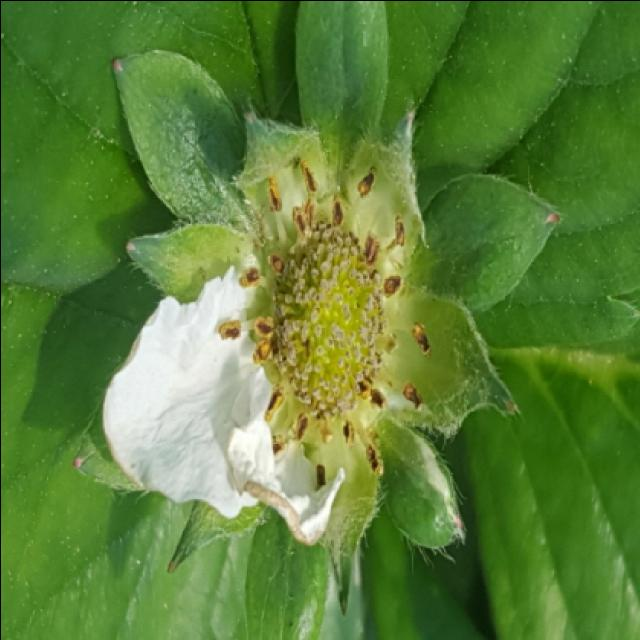Blossom Blight: (213, 152, 441, 493)
